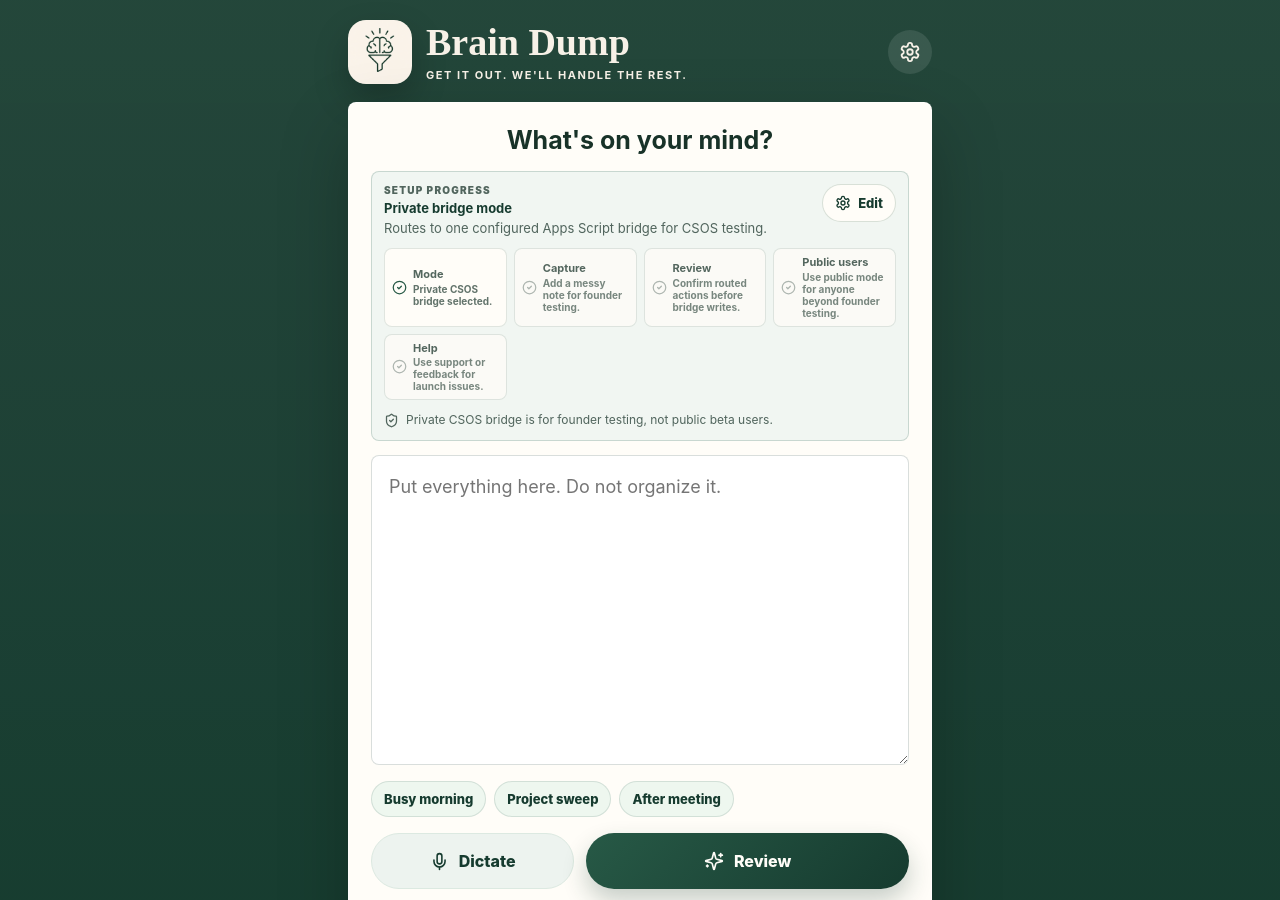
Test case: App routes › shows recovery guidance when provider execution returns errors
Type "Pay employees tomorrow" into the text box with placeholder "Put everything here. Do not organize it." at (640, 610), box x1=371 y1=456 x2=909 y2=766
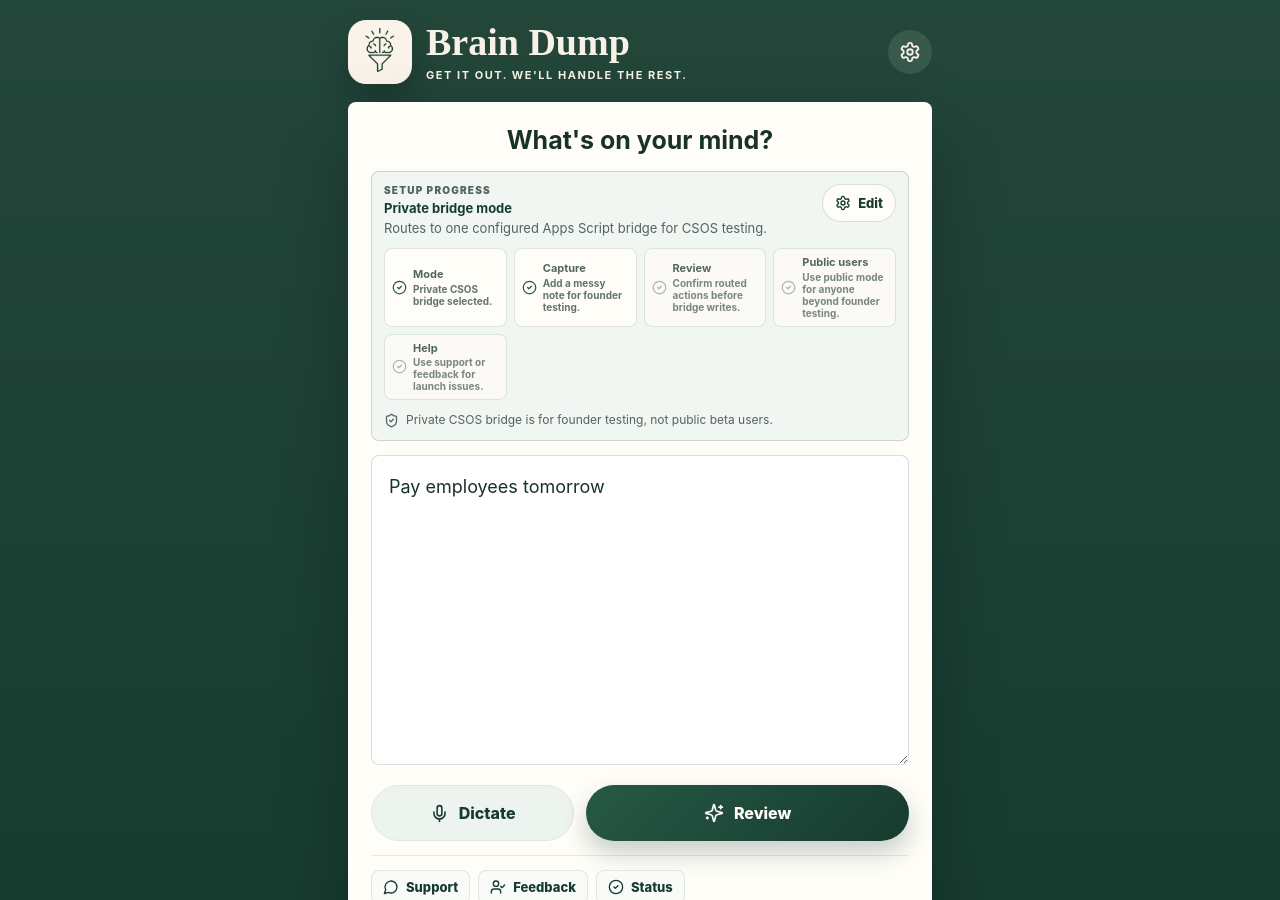
Click the button "Review" at (748, 814), box x1=586 y1=786 x2=909 y2=842
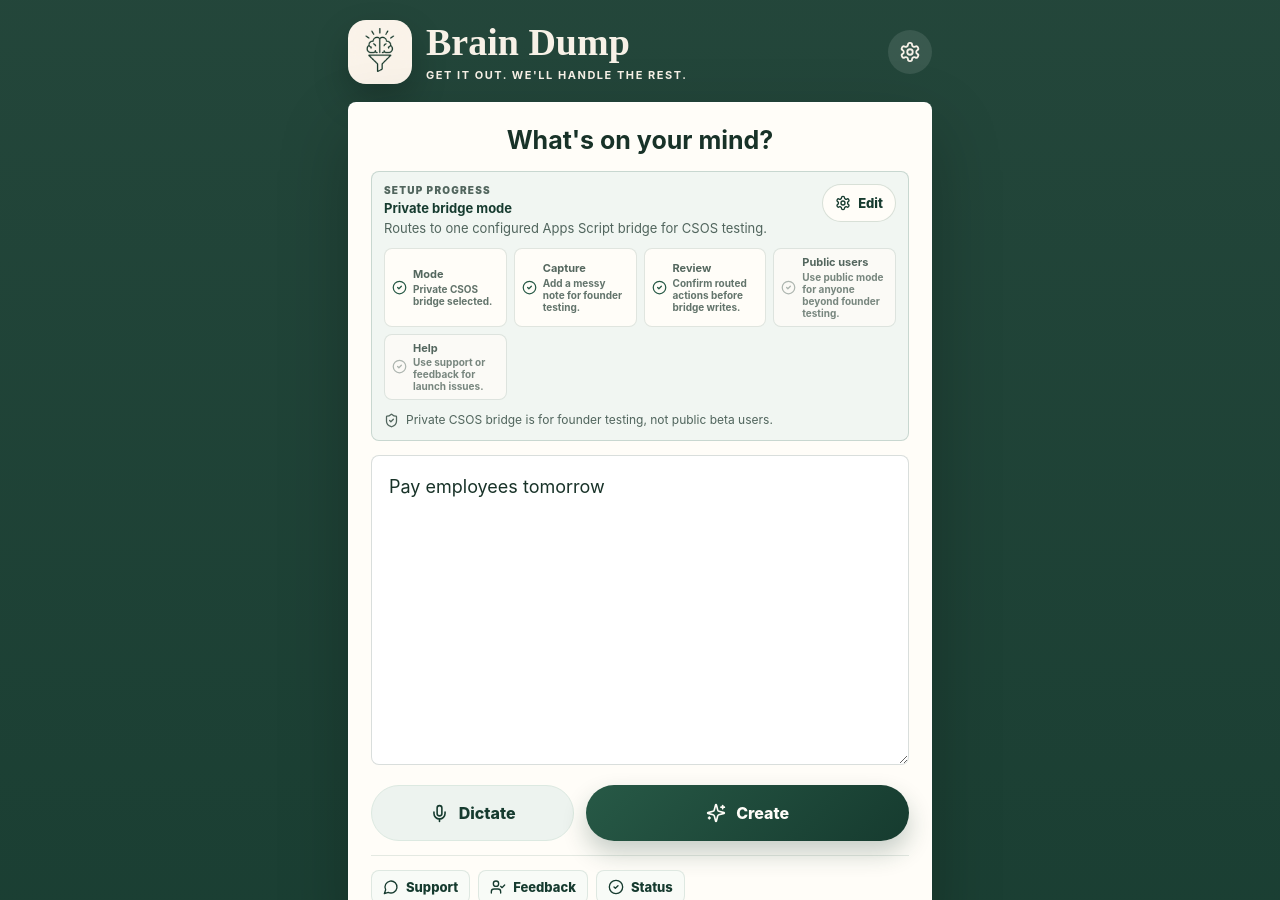
Click the button "Create" at (748, 814), box x1=586 y1=786 x2=909 y2=842
(page scrolled)
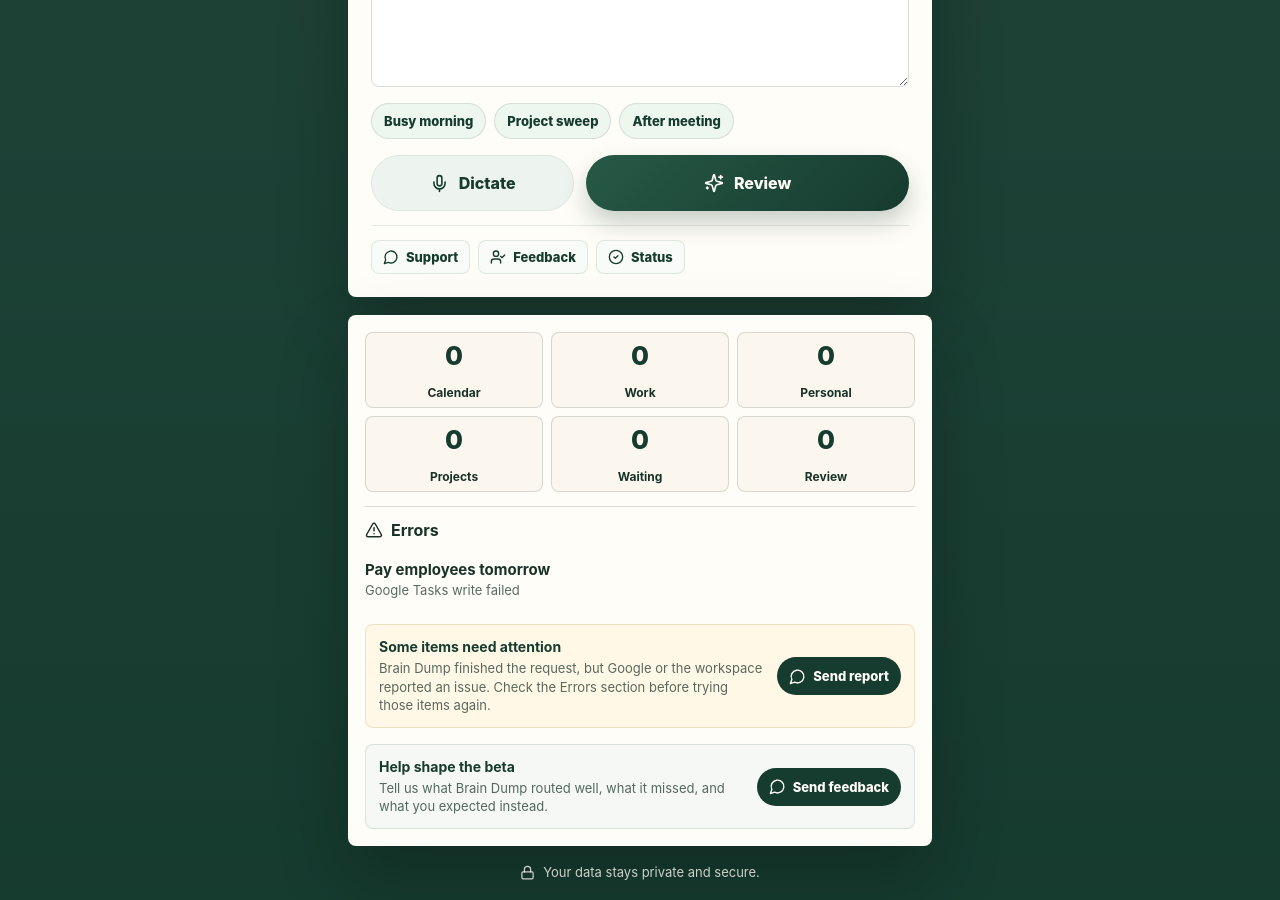
Now the text "Some items need attention" is shown, box x1=379 y1=638 x2=561 y2=656
Now the heading "Errors" is shown, box x1=365 y1=520 x2=439 y2=540
Now the text "Google Tasks write failed" is shown, box x1=365 y1=582 x2=520 y2=598
